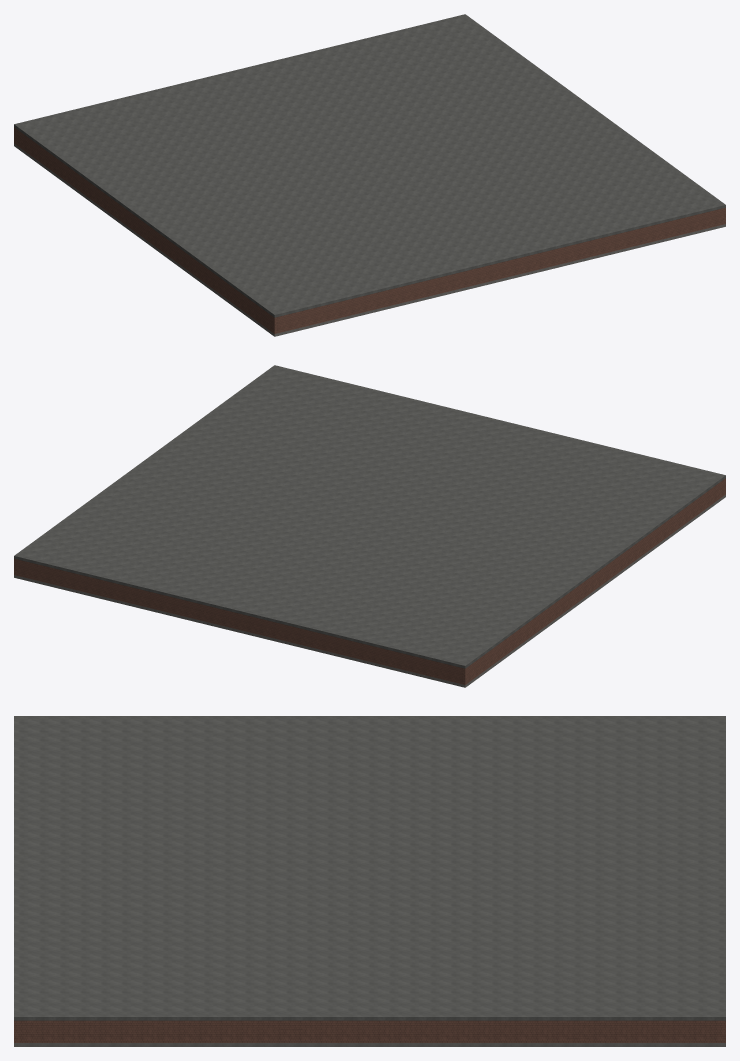
The model's file is level3_shell.obj.
3 views of the same model, one above another, from view 1: azimuth 30°, elevation 25°; view 2: azimuth 150°, elevation 25°; view 3: azimuth 270°, elevation 25° (orthographic). The views are drawn at different scales.
Bounding box in the file's own units: 86.5 × 4 × 86.5.
3 materials, 3 textured.
